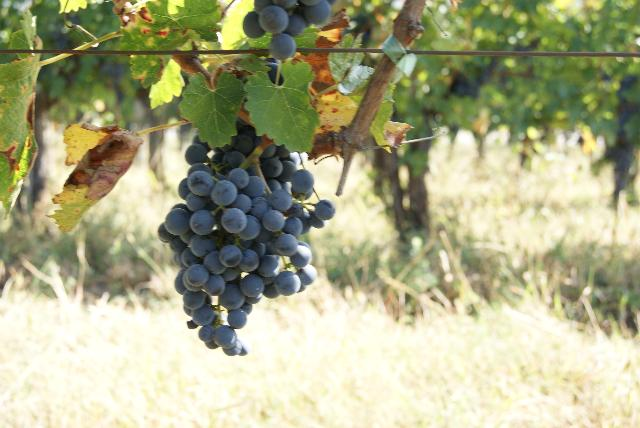grapes: (158, 166, 335, 356)
